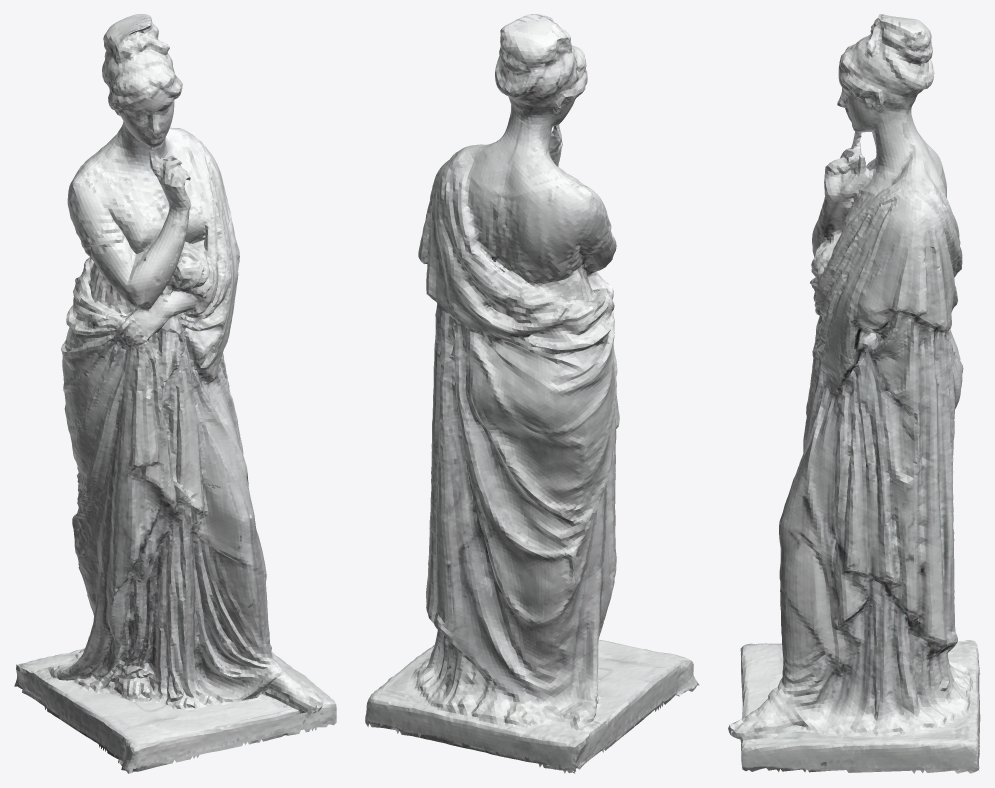
File: textured_text2tex.glb
The picture shows the model from 3 angles, left to right: view 1: azimuth 30°, elevation 25°; view 2: azimuth 150°, elevation 25°; view 3: azimuth 270°, elevation 25°; orthographic projection. The views are drawn at different scales.
Visible parts, largest first — view 1: Node; view 2: Node; view 3: Node.
Boxes of the visible parts, x1=… form: Node: x1=14, y1=14, x2=336, y2=773; Node: x1=365, y1=14, x2=699, y2=773; Node: x1=728, y1=14, x2=980, y2=773.
Bounding box in the file's own units: 0.3229 × 1 × 0.3297.
Materials: 1 (1 with a texture image).
